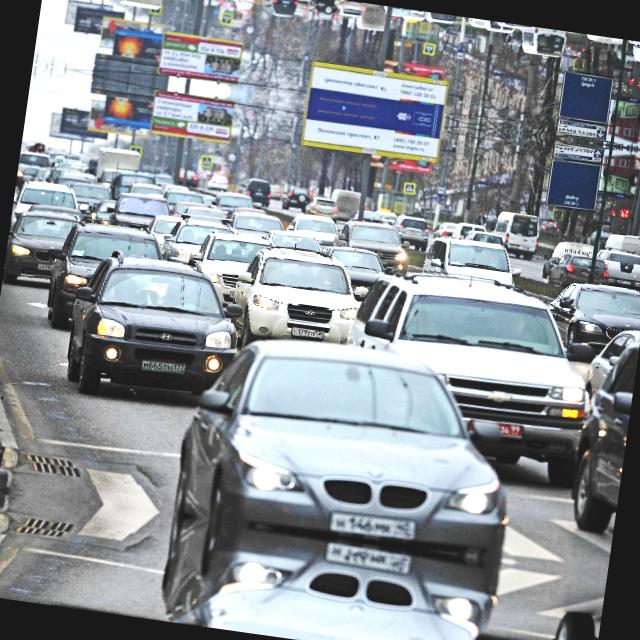citizen: (322, 504, 422, 548), (317, 536, 418, 578), (138, 354, 190, 378), (289, 322, 327, 342), (36, 258, 56, 274)
diplomatic: (493, 417, 528, 442)
